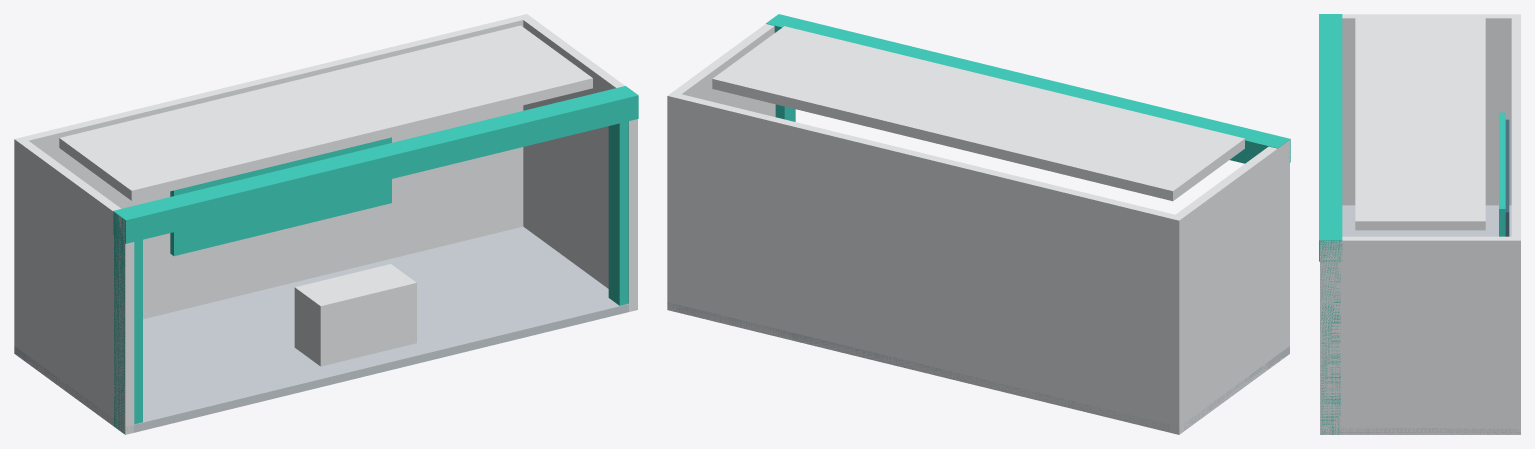
The picture shows the model from 3 angles, left to right: view 1: azimuth 30°, elevation 25°; view 2: azimuth 150°, elevation 25°; view 3: azimuth 270°, elevation 25°; orthographic projection. The views are drawn at different scales.
Parts seen in each view (by area): view 1: Exhibition Booth Concept; view 2: Exhibition Booth Concept; view 3: Exhibition Booth Concept.
Boxes of the visible parts, x1,y1,x2,y2 form: Exhibition Booth Concept: (14,14,638,434); Exhibition Booth Concept: (667,14,1290,434); Exhibition Booth Concept: (1319,14,1520,434).
Size of the model in its own units: 8 by 3.34 by 3.01.
